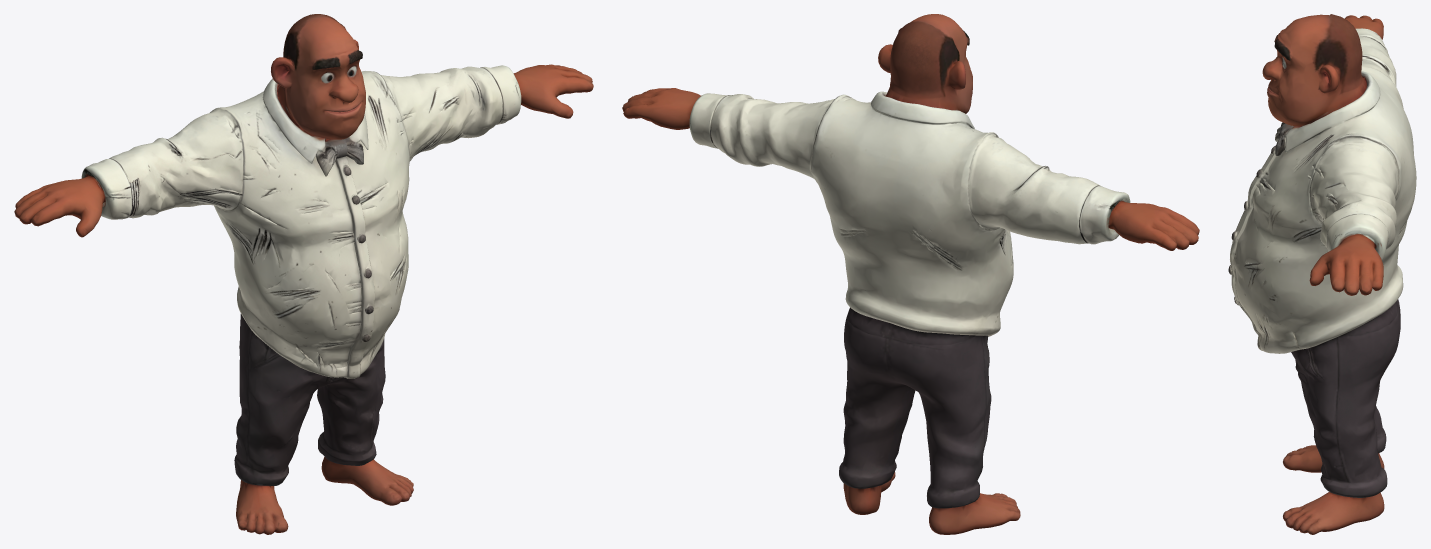
The model's file is mangle_the_innkeeper.glb.
The picture shows the model from 3 angles, left to right: view 1: azimuth 30°, elevation 25°; view 2: azimuth 150°, elevation 25°; view 3: azimuth 270°, elevation 25°; orthographic projection.
Parts seen in each view (by area): view 1: tripo_node_5822365a-c27c-4700-8cb7-5287632e300c; view 2: tripo_node_5822365a-c27c-4700-8cb7-5287632e300c; view 3: tripo_node_5822365a-c27c-4700-8cb7-5287632e300c.
Boxes of the visible parts, <box> form: tripo_node_5822365a-c27c-4700-8cb7-5287632e300c: <box>14,14,593,534</box>; tripo_node_5822365a-c27c-4700-8cb7-5287632e300c: <box>622,14,1199,534</box>; tripo_node_5822365a-c27c-4700-8cb7-5287632e300c: <box>1228,14,1416,534</box>.
Size of the model in its own units: 0.9807 by 0.8024 by 0.2849.
1 material, 1 textured.
